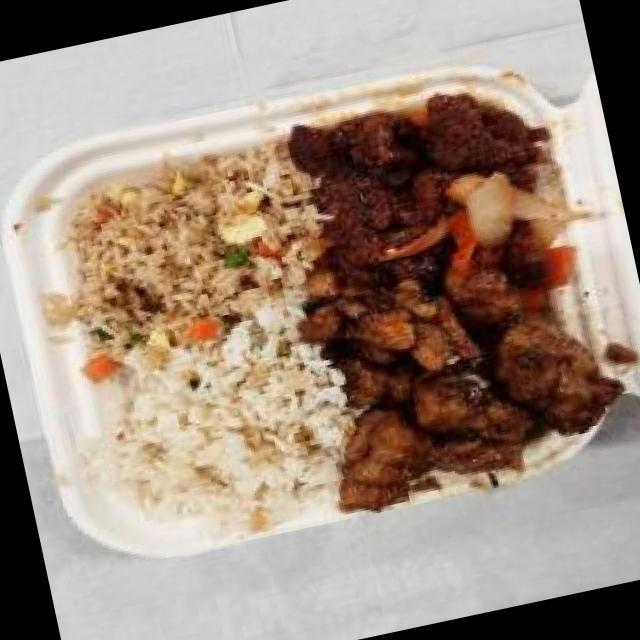Beijing Beef: (287, 62, 589, 304)
Fried Rice: (51, 132, 345, 378)
The Original Orange Chicken: (292, 234, 638, 520)
White Steamed Rice: (90, 318, 368, 550)
